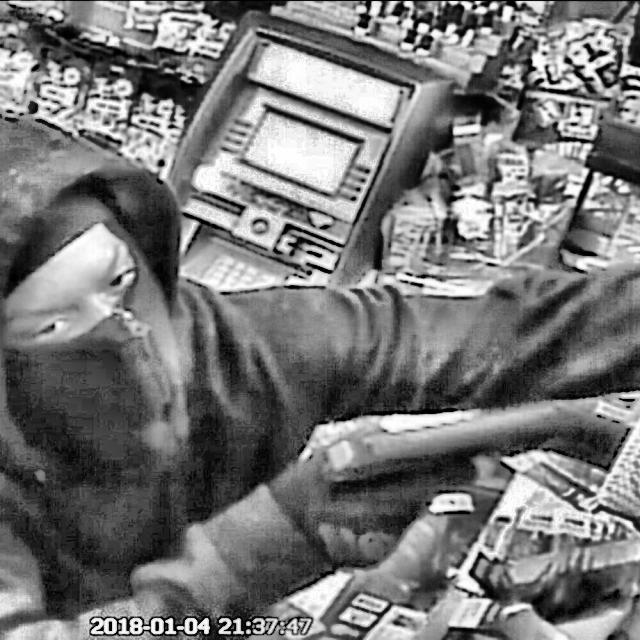robbery: (0, 112, 639, 634)
